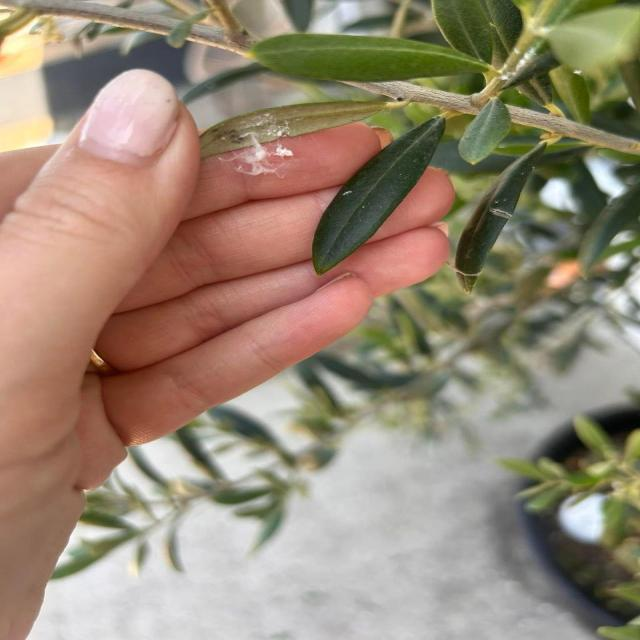Psyllid: (215, 106, 301, 176)
